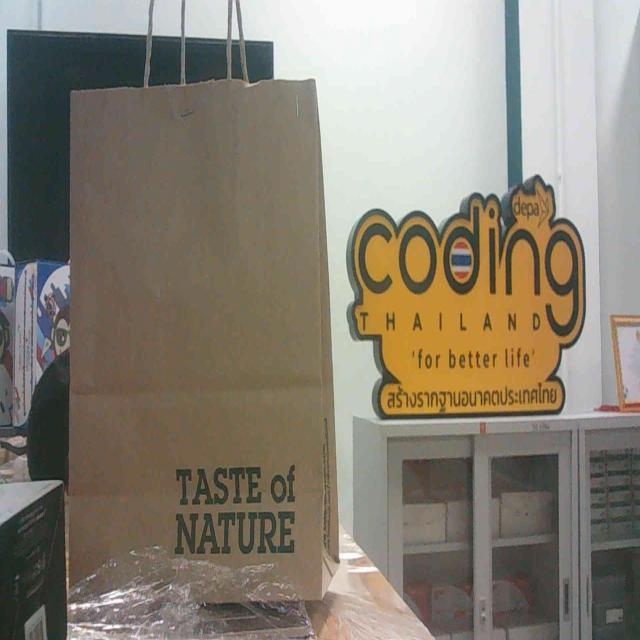bag: (44, 56, 352, 609)
